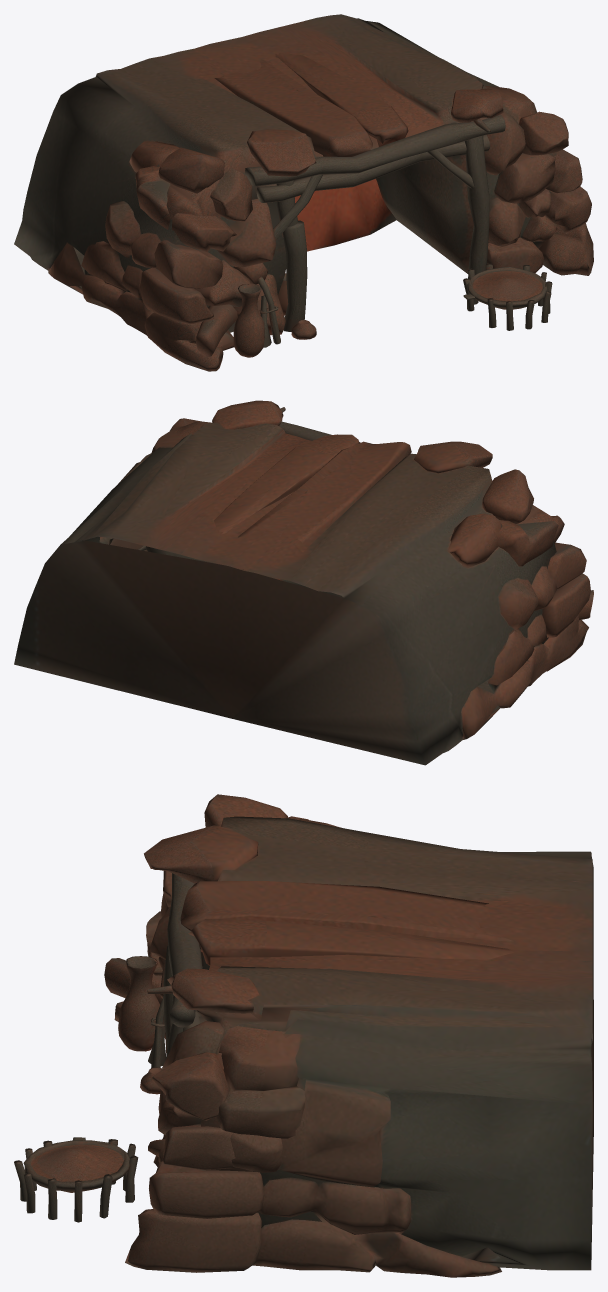
File: demir_madeni.glb
3 views of the same model, one above another, from view 1: azimuth 30°, elevation 25°; view 2: azimuth 150°, elevation 25°; view 3: azimuth 270°, elevation 25° (orthographic). The views are drawn at different scales.
Size of the model in its own units: 0.96 by 0.3921 by 0.8403.
Materials: 1 (1 with a texture image).
